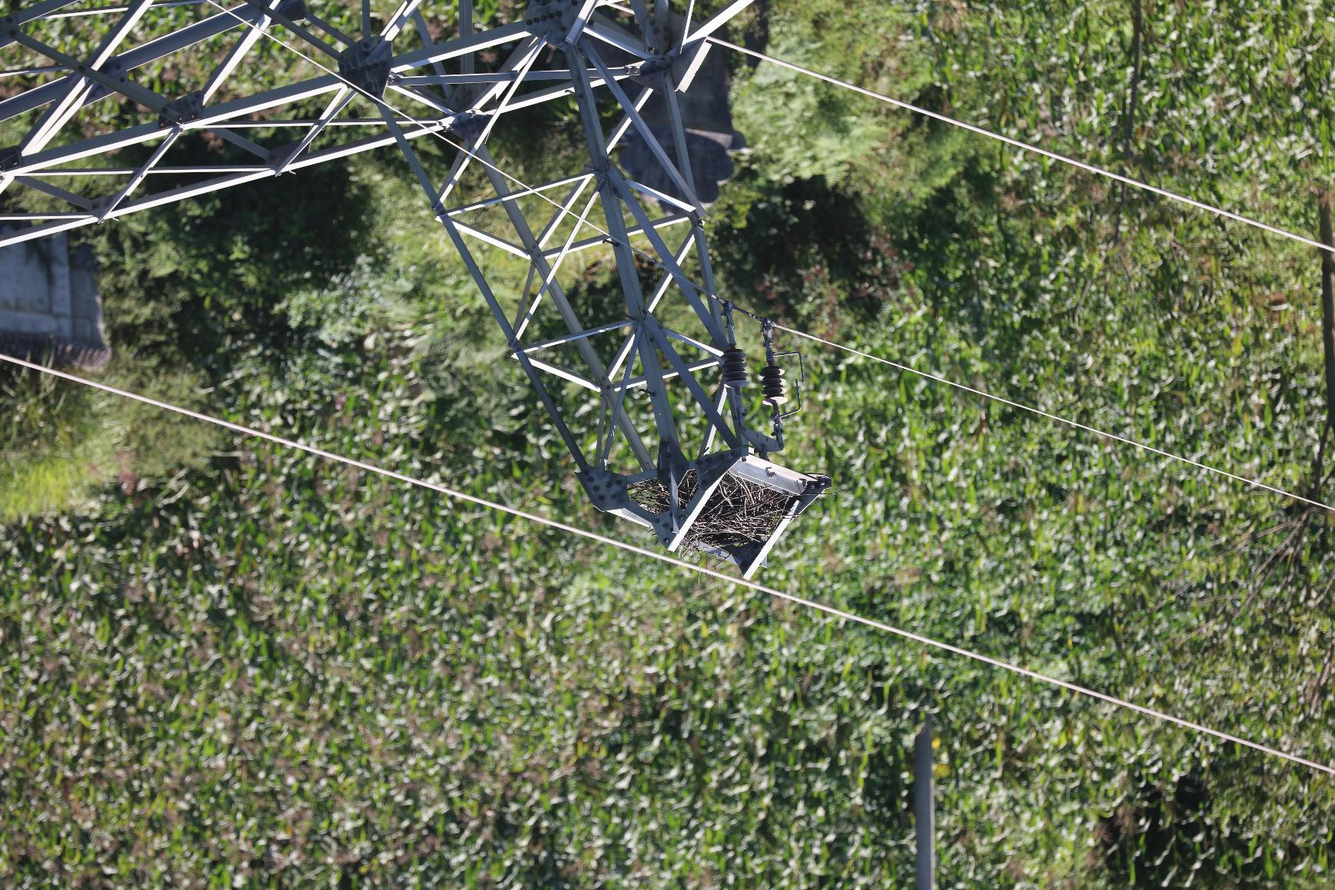nest: (633, 467, 794, 560)
